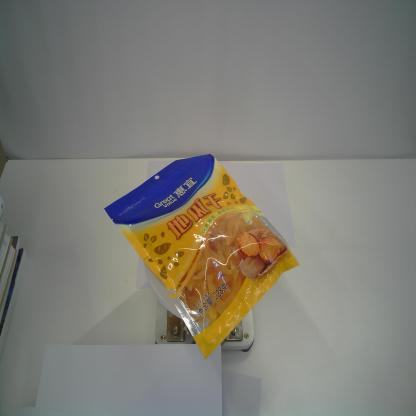Dried Fruit: (103, 154, 301, 361)
